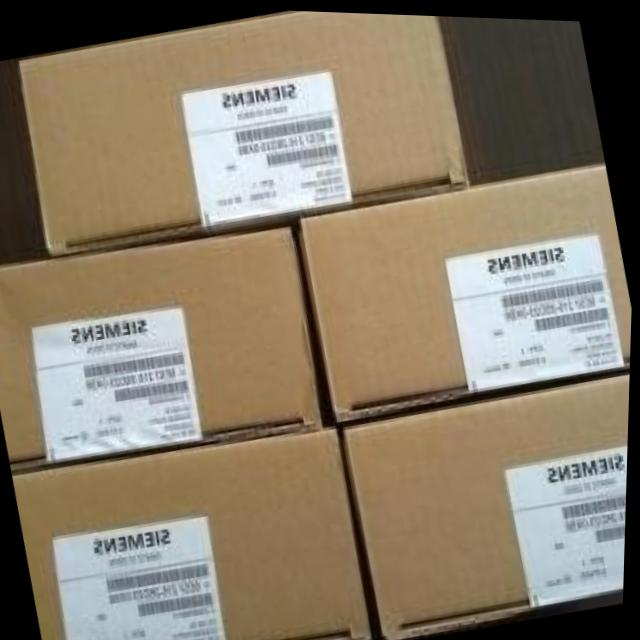box: (19, 9, 471, 256), (299, 159, 633, 420), (0, 222, 325, 470), (17, 424, 376, 640), (344, 369, 632, 636)
